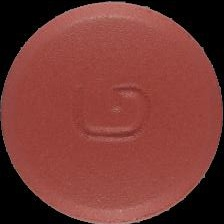60760-498: (0, 0, 224, 224)
